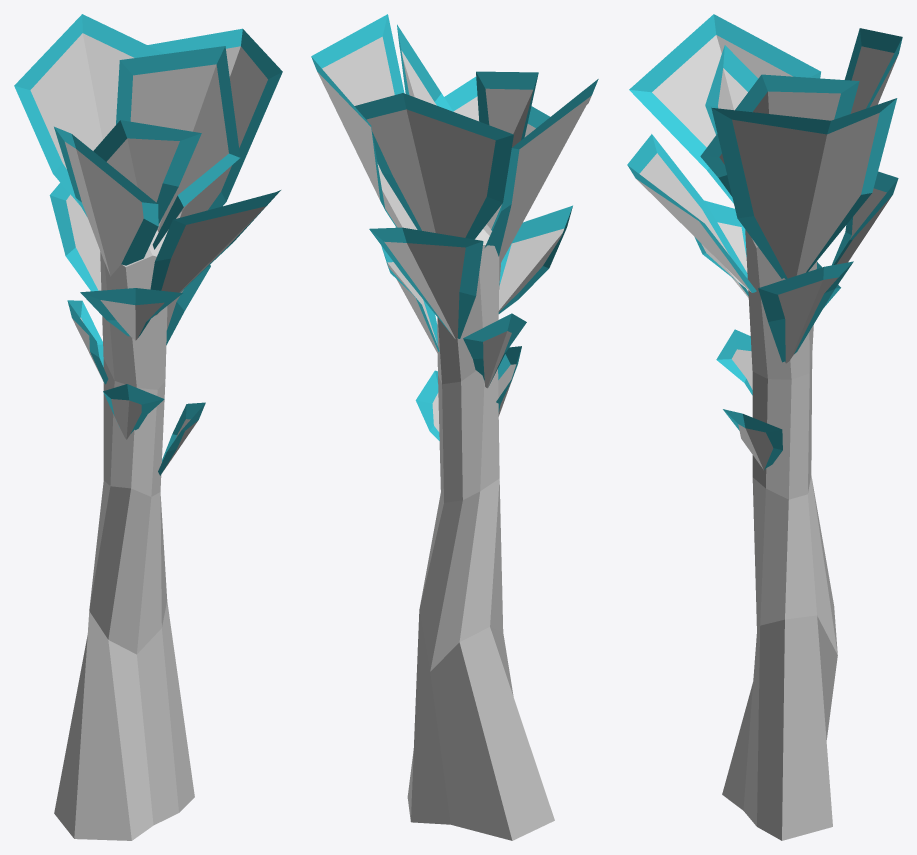
Rendered from scifi-tree-crown-medium.fbx.
3 views of the same model, side by side, from view 1: azimuth 30°, elevation 25°; view 2: azimuth 150°, elevation 25°; view 3: azimuth 270°, elevation 25° (orthographic). The views are drawn at different scales.
Visible parts, largest first — view 1: scifi-tree-crown-medium; view 2: scifi-tree-crown-medium; view 3: scifi-tree-crown-medium.
Boxes of the visible parts, x1,y1,x2,y2 form: scifi-tree-crown-medium: [14, 14, 282, 840]; scifi-tree-crown-medium: [311, 14, 598, 840]; scifi-tree-crown-medium: [627, 14, 902, 840].
Size of the model in its own units: 1.51 by 4.76 by 1.53.
